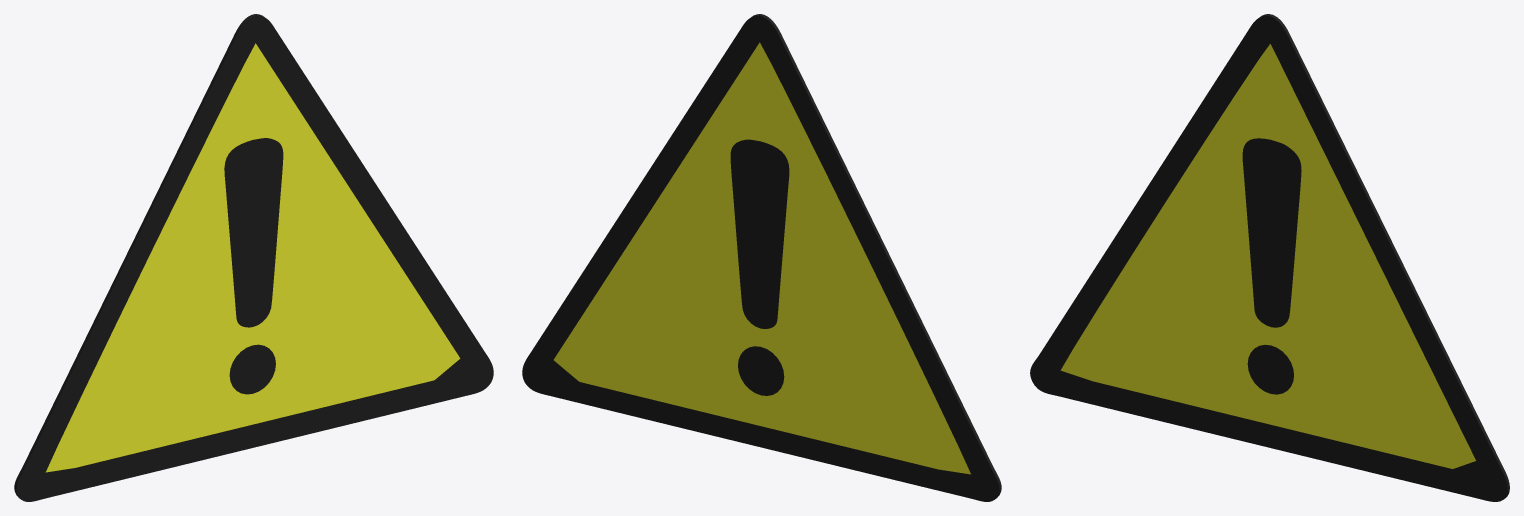
Rendered from Warning.fbx.
3 renders of one model, left to right at view 1: azimuth 30°, elevation 25°; view 2: azimuth 150°, elevation 25°; view 3: azimuth 330°, elevation 25°, orthographic.
Visible parts, largest first — view 1: Group1; view 2: Group1; view 3: Group1.
Part boxes in pixels (x1,y1,x2,y2): Group1: (14, 14, 493, 501); Group1: (522, 14, 1001, 501); Group1: (1030, 14, 1509, 501).
Size of the model in its own units: 0.1296 by 0.112 by 0.001.
